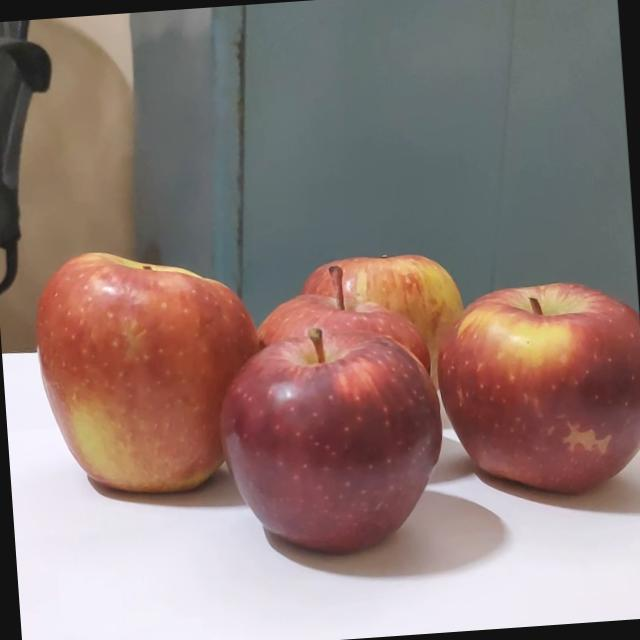apple: (23, 249, 247, 498), (404, 281, 640, 508), (199, 324, 425, 558), (235, 263, 418, 482), (296, 243, 460, 430)
